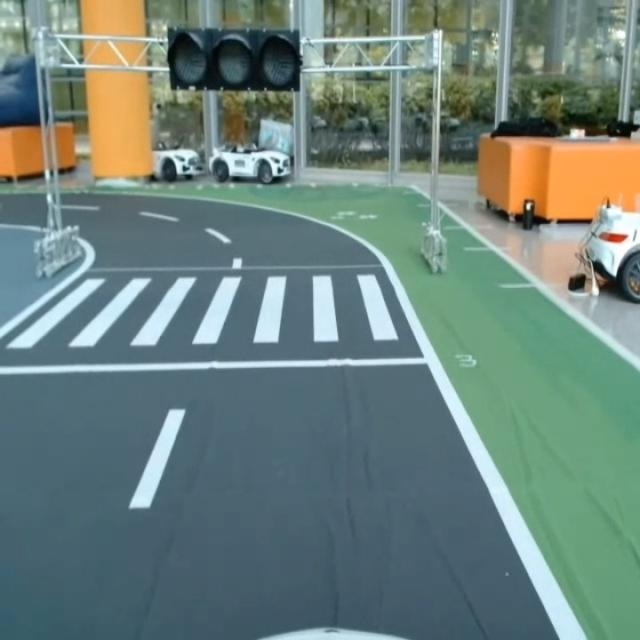traffic-light: (164, 25, 304, 94)
